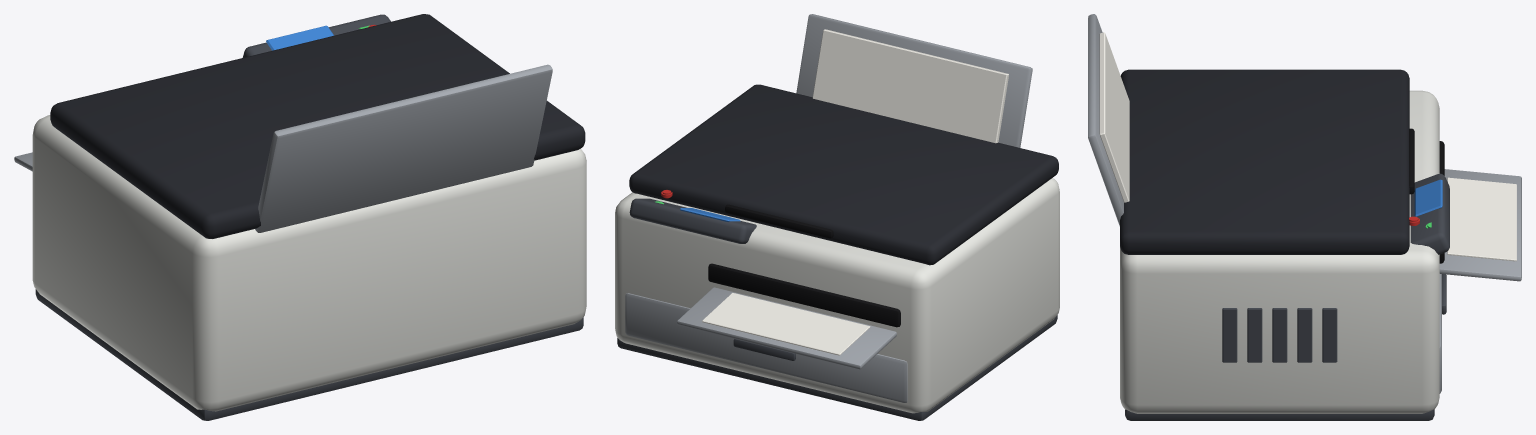
File: printer.obj
The picture shows the model from 3 angles, left to right: view 1: azimuth 30°, elevation 25°; view 2: azimuth 150°, elevation 25°; view 3: azimuth 270°, elevation 25°; orthographic projection. The views are drawn at different scales.
Bounding box in the file's own units: 0.825 × 0.585 × 0.8685.
